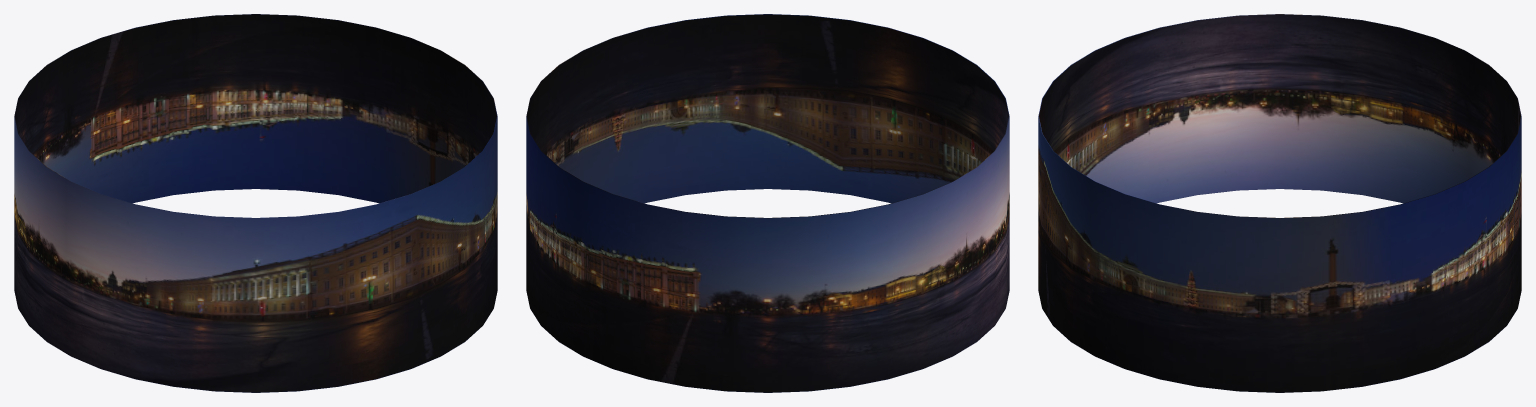
File: moscow.obj
3 renders of one model, left to right at view 1: azimuth 30°, elevation 25°; view 2: azimuth 150°, elevation 25°; view 3: azimuth 270°, elevation 25°, orthographic.
Parts seen in each view (by area): view 1: Объект_Труба; view 2: Объект_Труба; view 3: Объект_Труба.
Boxes of the visible parts, x1,y1,x2,y2 form: Объект_Труба: (14,14,497,392); Объект_Труба: (526,14,1009,392); Объект_Труба: (1038,14,1521,392).
Bounding box in the file's own units: 10.02 × 4 × 10.02.
Materials: 1 (1 with a texture image).
